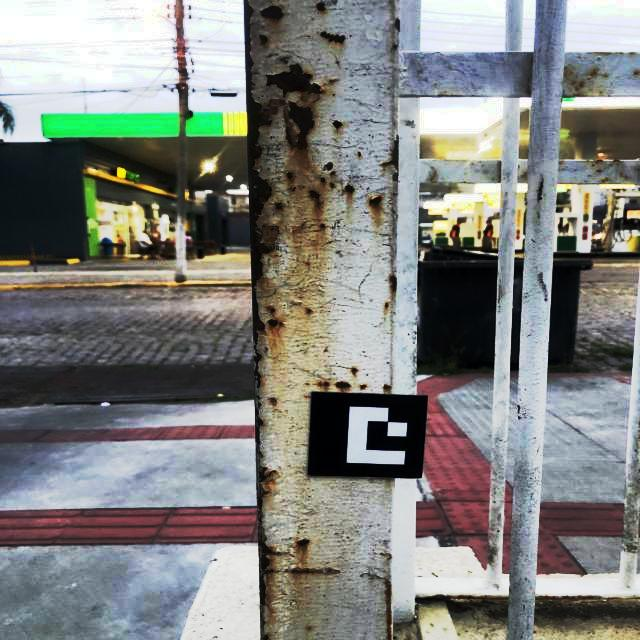Corrosion: (243, 0, 285, 389), (258, 522, 287, 606), (360, 572, 392, 640), (265, 63, 325, 98), (285, 101, 315, 151), (563, 66, 603, 97), (380, 135, 399, 171), (255, 389, 264, 457), (415, 594, 509, 600), (256, 483, 270, 523), (284, 567, 340, 575), (536, 594, 595, 600), (260, 6, 284, 20), (320, 31, 345, 44), (258, 465, 276, 483), (260, 605, 269, 640), (588, 68, 608, 79), (388, 274, 397, 292), (537, 180, 544, 202), (335, 381, 352, 389), (369, 196, 382, 206), (332, 120, 344, 130), (429, 167, 437, 182), (345, 184, 355, 194), (259, 34, 268, 45), (309, 190, 320, 199), (267, 318, 278, 327), (298, 539, 310, 547), (394, 19, 401, 32), (324, 162, 334, 171), (380, 553, 392, 560), (316, 3, 326, 11), (275, 202, 284, 210), (392, 172, 398, 183), (317, 381, 330, 386), (315, 199, 322, 208), (498, 284, 501, 303), (596, 51, 610, 55), (269, 398, 276, 405), (287, 171, 293, 179), (383, 384, 391, 390), (360, 384, 367, 390), (306, 309, 313, 314), (522, 171, 527, 178), (633, 70, 640, 75), (595, 159, 603, 163), (291, 186, 297, 191), (330, 182, 335, 188), (330, 171, 336, 176), (270, 308, 276, 313), (352, 368, 358, 373), (602, 178, 609, 182), (321, 178, 326, 183), (258, 401, 261, 409), (517, 405, 520, 413), (616, 52, 624, 55), (357, 151, 361, 157), (629, 52, 636, 55), (393, 45, 398, 49), (320, 224, 325, 228), (279, 321, 283, 326), (256, 395, 260, 400), (385, 302, 389, 307), (304, 262, 310, 265), (614, 159, 620, 162), (329, 80, 334, 83), (307, 627, 312, 630), (597, 170, 602, 172), (258, 459, 261, 462), (625, 176, 628, 179), (621, 173, 623, 176), (393, 193, 396, 195), (592, 164, 594, 166)
